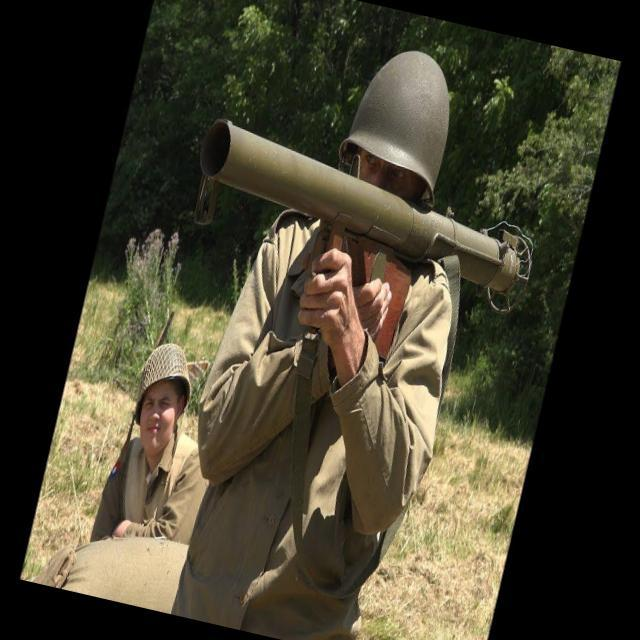rocket: (182, 112, 548, 314)
